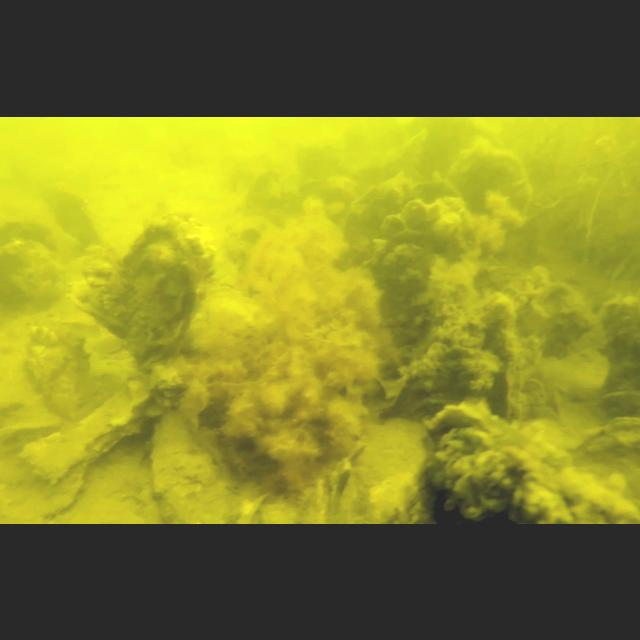Oyster-Closed: (125, 209, 218, 371), (453, 444, 640, 523), (18, 378, 150, 486), (150, 402, 242, 524), (444, 138, 530, 254), (341, 171, 464, 247), (23, 323, 92, 421), (68, 242, 128, 341), (376, 198, 464, 260), (36, 183, 102, 247)
Oyster-Open: (420, 398, 500, 524), (368, 228, 432, 346), (0, 218, 66, 310), (222, 223, 268, 295), (598, 388, 640, 429)
